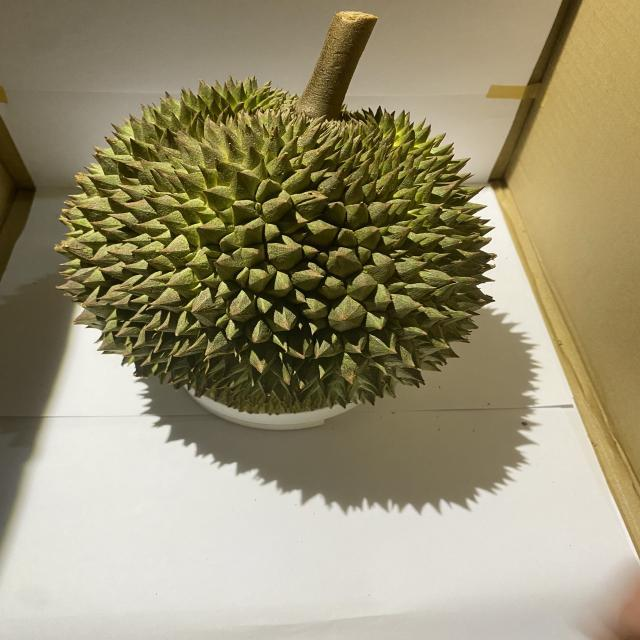immature: (53, 74, 499, 414)
